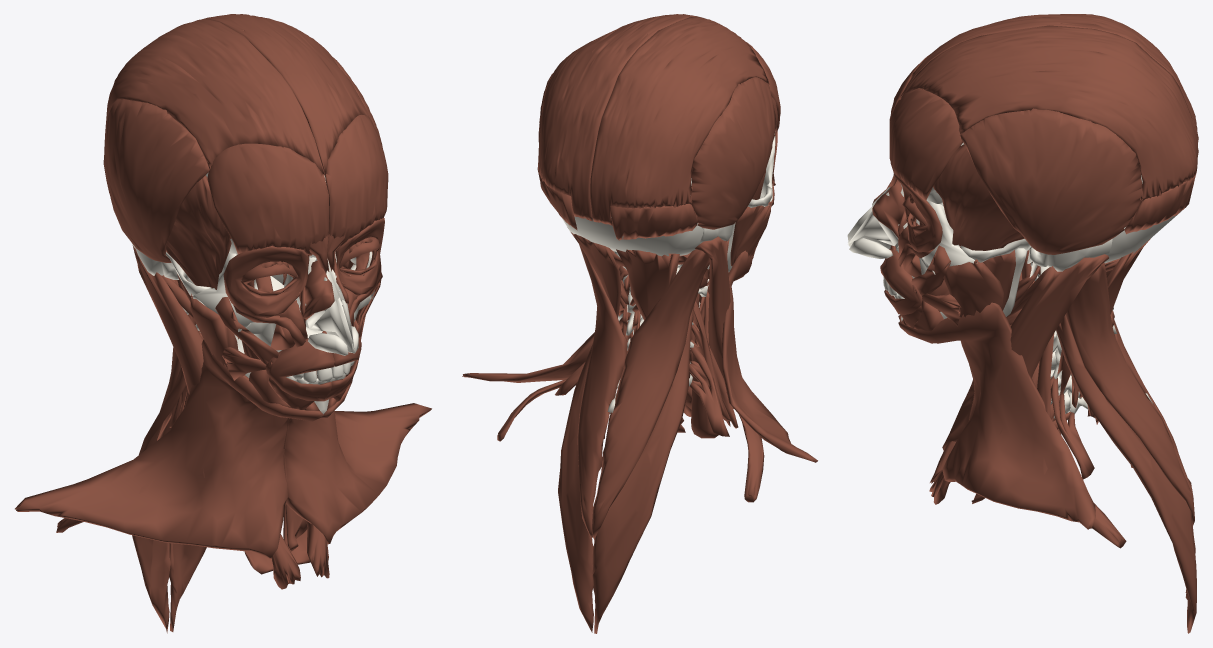
Rendered from head_neck.glb.
3 views of the same model, side by side, from view 1: azimuth 30°, elevation 25°; view 2: azimuth 150°, elevation 25°; view 3: azimuth 270°, elevation 25° (orthographic). The views are drawn at different scales.
Parts seen in each view (by area): view 1: Platysma.001, Epicranial aponeurosis.001, Platysma, Temporoparietalis muscle.001, Frontalis muscle.003, Epicranial aponeurosis, Frontalis muscle, Temporalis muscle.011, Sternocleidomastoid muscle.007, Orbital part of orbicularis oculi.003, Splenius colli muscle.005, Orbicularis oris muscle.003 (+18 smaller); view 2: Epicranial aponeurosis.001, Splenius capitis muscle.001, Epicranial aponeurosis, Temporoparietalis muscle.001, Splenius colli muscle.005, Splenius capitis muscle, Splenius colli muscle.004, Platysma.001, Occipitalis muscle.003, Spinalis capitis muscle.003, Occipital bone, Sternocleidomastoid muscle.007 (+12 smaller); view 3: Epicranial aponeurosis, Temporoparietalis muscle, Platysma, Splenius capitis muscle, Splenius colli muscle.004, Frontalis muscle, Temporalis muscle.002, Sternocleidomastoid muscle.002, Epicranial aponeurosis.001, Superficial part of masseter, Temporal bone, Occipitalis muscle (+19 smaller).
Boxes of the visible parts, box(x1,y1,x2,y2) form: Platysma.001: box(15, 339, 323, 558); Epicranial aponeurosis.001: box(104, 19, 324, 175); Platysma: box(283, 380, 431, 544); Temporoparietalis muscle.001: box(104, 99, 210, 262); Frontalis muscle.003: box(207, 143, 328, 255); Epicranial aponeurosis: box(201, 14, 373, 175); Frontalis muscle: box(325, 114, 388, 247); Temporalis muscle.011: box(166, 175, 231, 289); Sternocleidomastoid muscle.007: box(132, 245, 300, 589); Orbital part of orbicularis oculi.003: box(223, 245, 309, 317); Splenius colli muscle.005: box(132, 314, 202, 633); Orbicularis oris muscle.003: box(265, 338, 334, 401); Epicranial aponeurosis.001: box(590, 16, 769, 225); Splenius capitis muscle.001: box(592, 249, 709, 539); Epicranial aponeurosis: box(538, 14, 697, 221); Temporoparietalis muscle.001: box(691, 77, 776, 229); Splenius colli muscle.005: box(592, 304, 694, 633); Splenius capitis muscle: box(577, 244, 627, 538); Splenius colli muscle.004: box(558, 343, 593, 632); Platysma.001: box(703, 250, 817, 462); Occipitalis muscle.003: box(610, 203, 697, 240); Spinalis capitis muscle.003: box(616, 249, 679, 320); Occipital bone: box(562, 216, 703, 256); Sternocleidomastoid muscle.007: box(695, 236, 737, 426); Epicranial aponeurosis: box(899, 25, 1198, 201); Temporoparietalis muscle: box(960, 108, 1142, 254); Platysma: box(898, 302, 1095, 529); Splenius capitis muscle: box(1065, 262, 1194, 527); Splenius colli muscle.004: box(1056, 314, 1196, 633); Frontalis muscle: box(889, 88, 962, 199); Temporalis muscle.002: box(933, 144, 1024, 250); Sternocleidomastoid muscle.002: box(929, 254, 1108, 504); Epicranial aponeurosis.001: box(899, 14, 1198, 142); Superficial part of masseter: box(943, 259, 1003, 317); Temporal bone: box(960, 238, 1112, 277); Occipitalis muscle: box(1124, 172, 1196, 234).
Size of the model in its own units: 0.2825 by 0.4221 by 0.2214.
